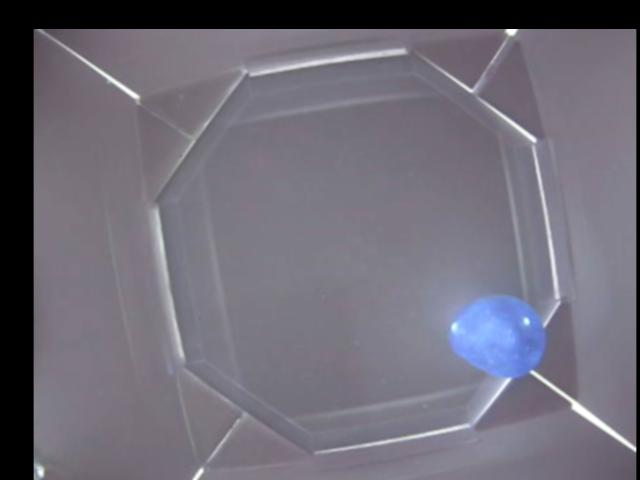Potato: (452, 292, 546, 376)
